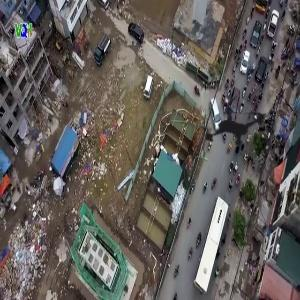drone: (170, 63, 299, 192)
